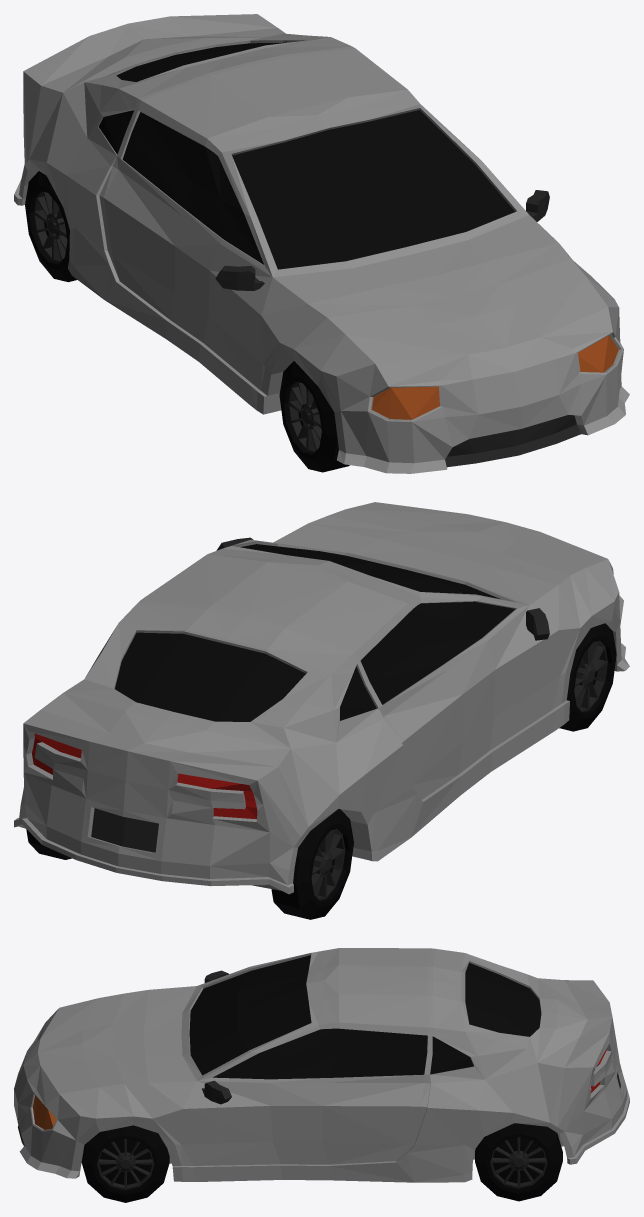
Rendered from SportsCar2.obj.
The picture shows the model from 3 angles, top to bottom: view 1: azimuth 30°, elevation 25°; view 2: azimuth 150°, elevation 25°; view 3: azimuth 270°, elevation 25°; orthographic projection. The views are drawn at different scales.
Visible parts, largest first — view 1: SportsCar2_Cube.006, SportsCar2_FrontRightWheel_Cylinder.018, SportsCar2_BackWheels_Cylinder.002; view 2: SportsCar2_Cube.006, SportsCar2_BackWheels_Cylinder.002, SportsCar2_FrontRightWheel_Cylinder.018; view 3: SportsCar2_Cube.006, SportsCar2_BackWheels_Cylinder.002, SportsCar2_FrontLeftWheel_Cylinder.017.
Part boxes in pixels (x1,y1,x2,y2): SportsCar2_Cube.006: (14, 14, 629, 473); SportsCar2_FrontRightWheel_Cylinder.018: (279, 361, 349, 472); SportsCar2_BackWheels_Cylinder.002: (25, 171, 77, 282); SportsCar2_Cube.006: (14, 502, 629, 894); SportsCar2_BackWheels_Cylinder.002: (26, 809, 353, 919); SportsCar2_FrontRightWheel_Cylinder.018: (559, 623, 616, 731); SportsCar2_Cube.006: (14, 948, 629, 1182); SportsCar2_BackWheels_Cylinder.002: (475, 1123, 562, 1201); SportsCar2_FrontLeftWheel_Cylinder.017: (81, 1125, 169, 1202).
Size of the model in its own units: 1.87 by 1.2 by 3.93.
